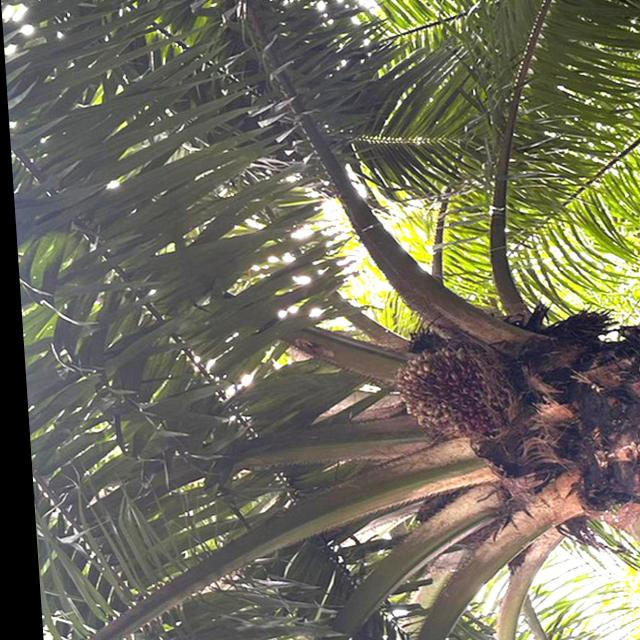ripe: (371, 332, 520, 456)
